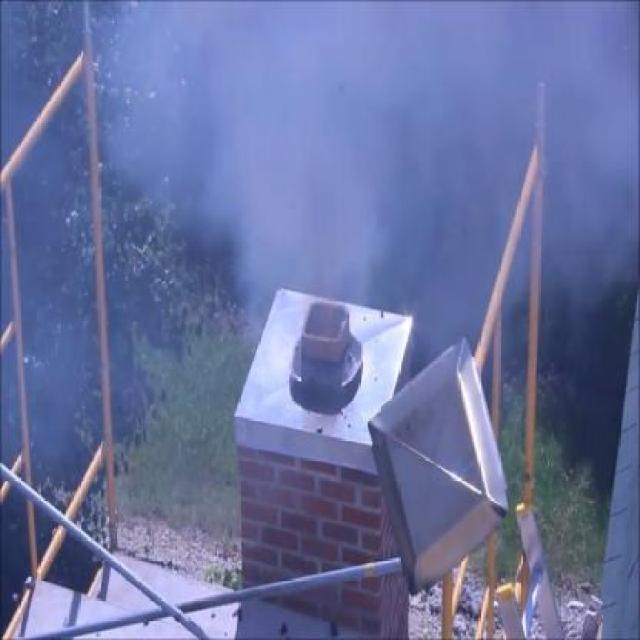smoke: (112, 5, 480, 267), (548, 40, 640, 278)
